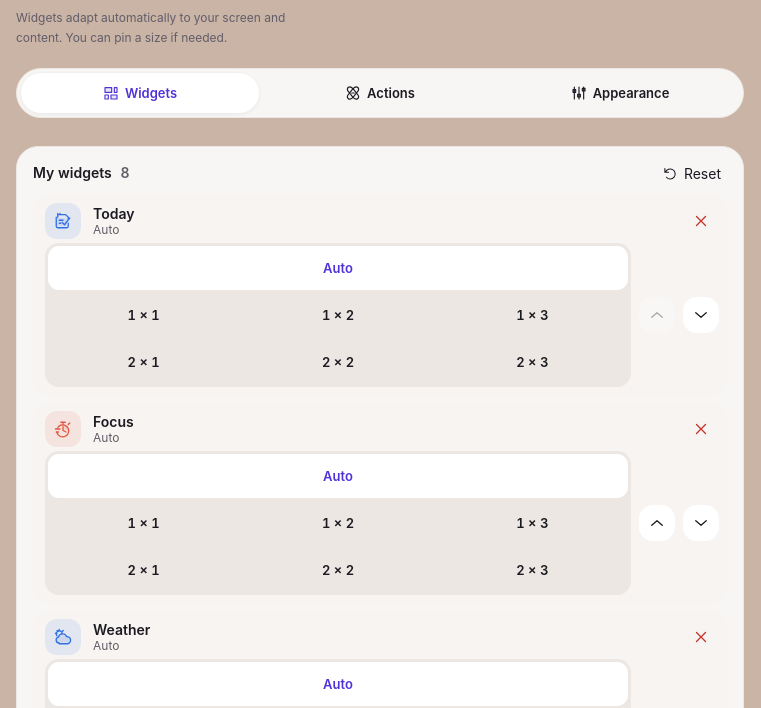
persists mobile order, sizes and removal without changing desktop layout
The image size is (761, 708).
Click the button named "Move Today down" at (701, 315), box [683,297,719,333]
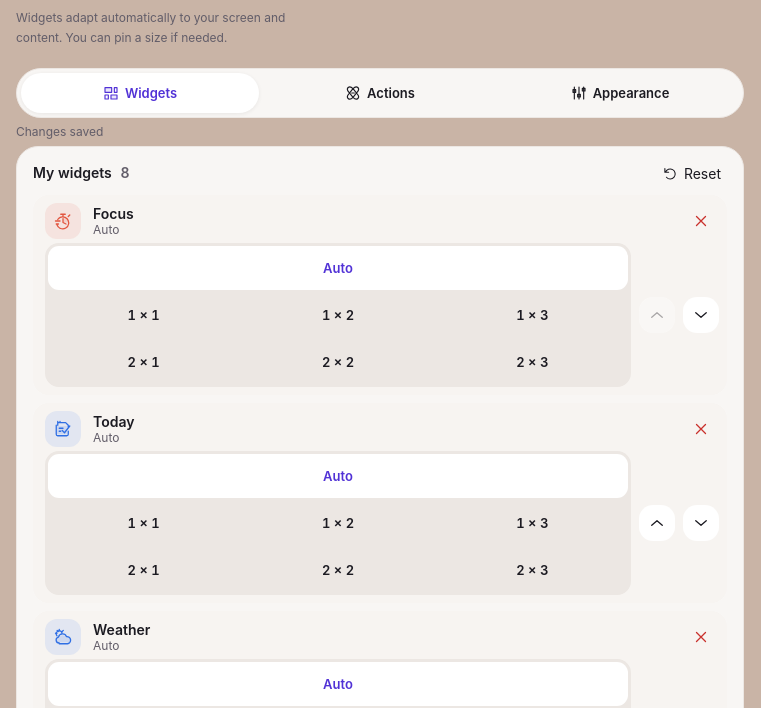
Click the 2nd radio button labelled "2 × 3" at (532, 570), box [437,548,628,592]
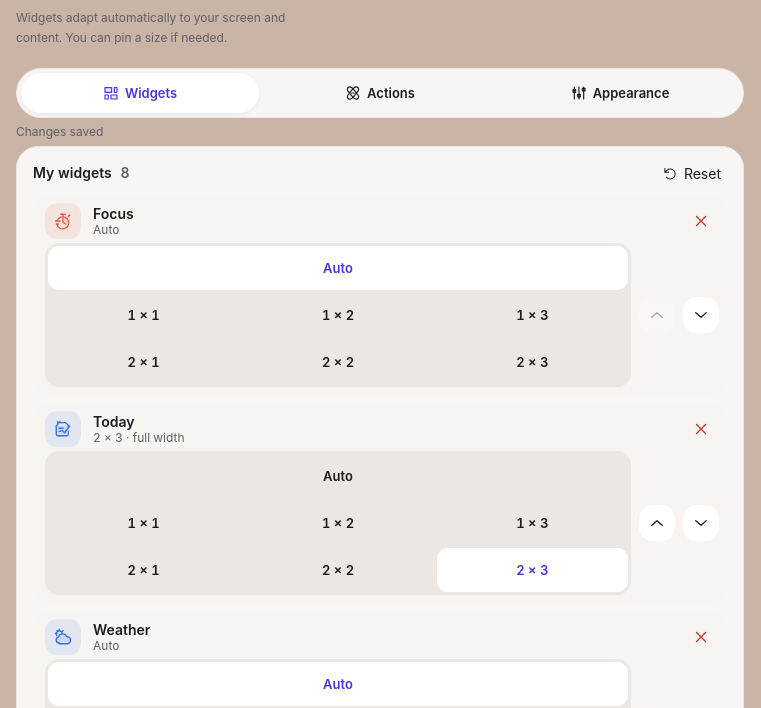
Click the button named "Remove Today" at (701, 429), box [683,411,719,447]
(page scrolled)
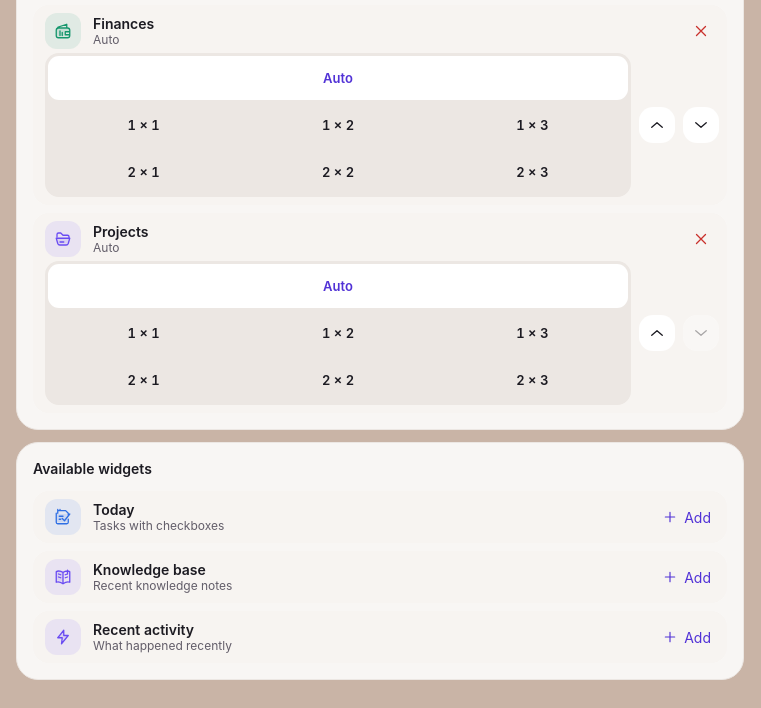
Check: the button "Add" in the row of "Today" is shown
Click the button "Add" in the row of "Today" at (687, 517), box [654,499,719,535]
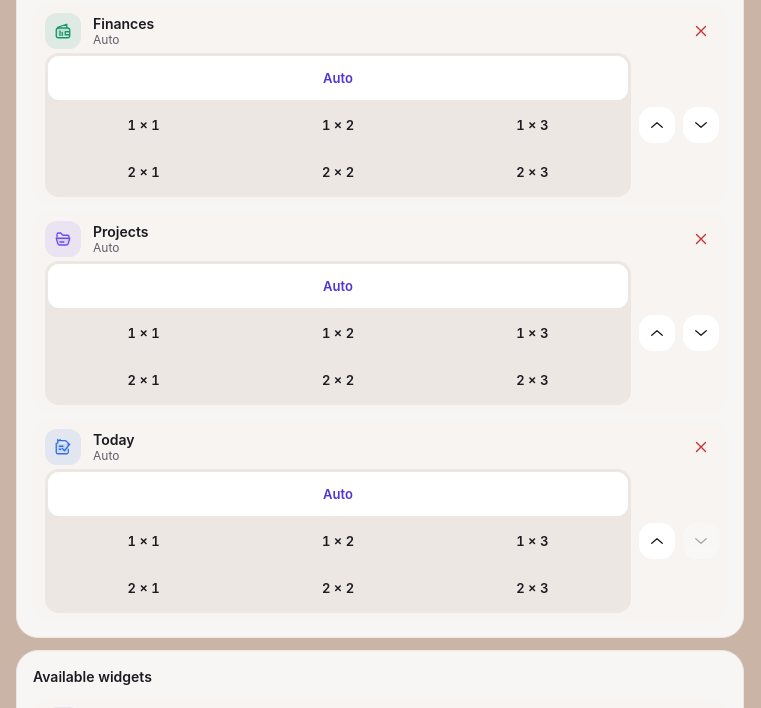
Check: the list item "Today Auto Auto 1 × 1 1 × 2 1 × 3 2 × 1 2 × 2 2 × 3" is shown, box [33,421,727,621]
